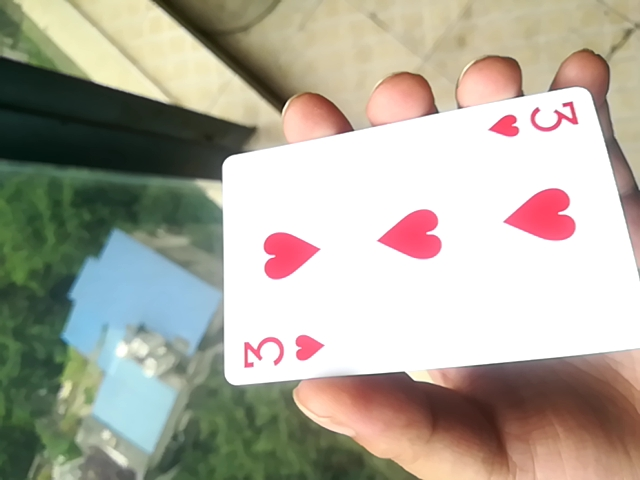hx 3: (216, 84, 638, 396)
